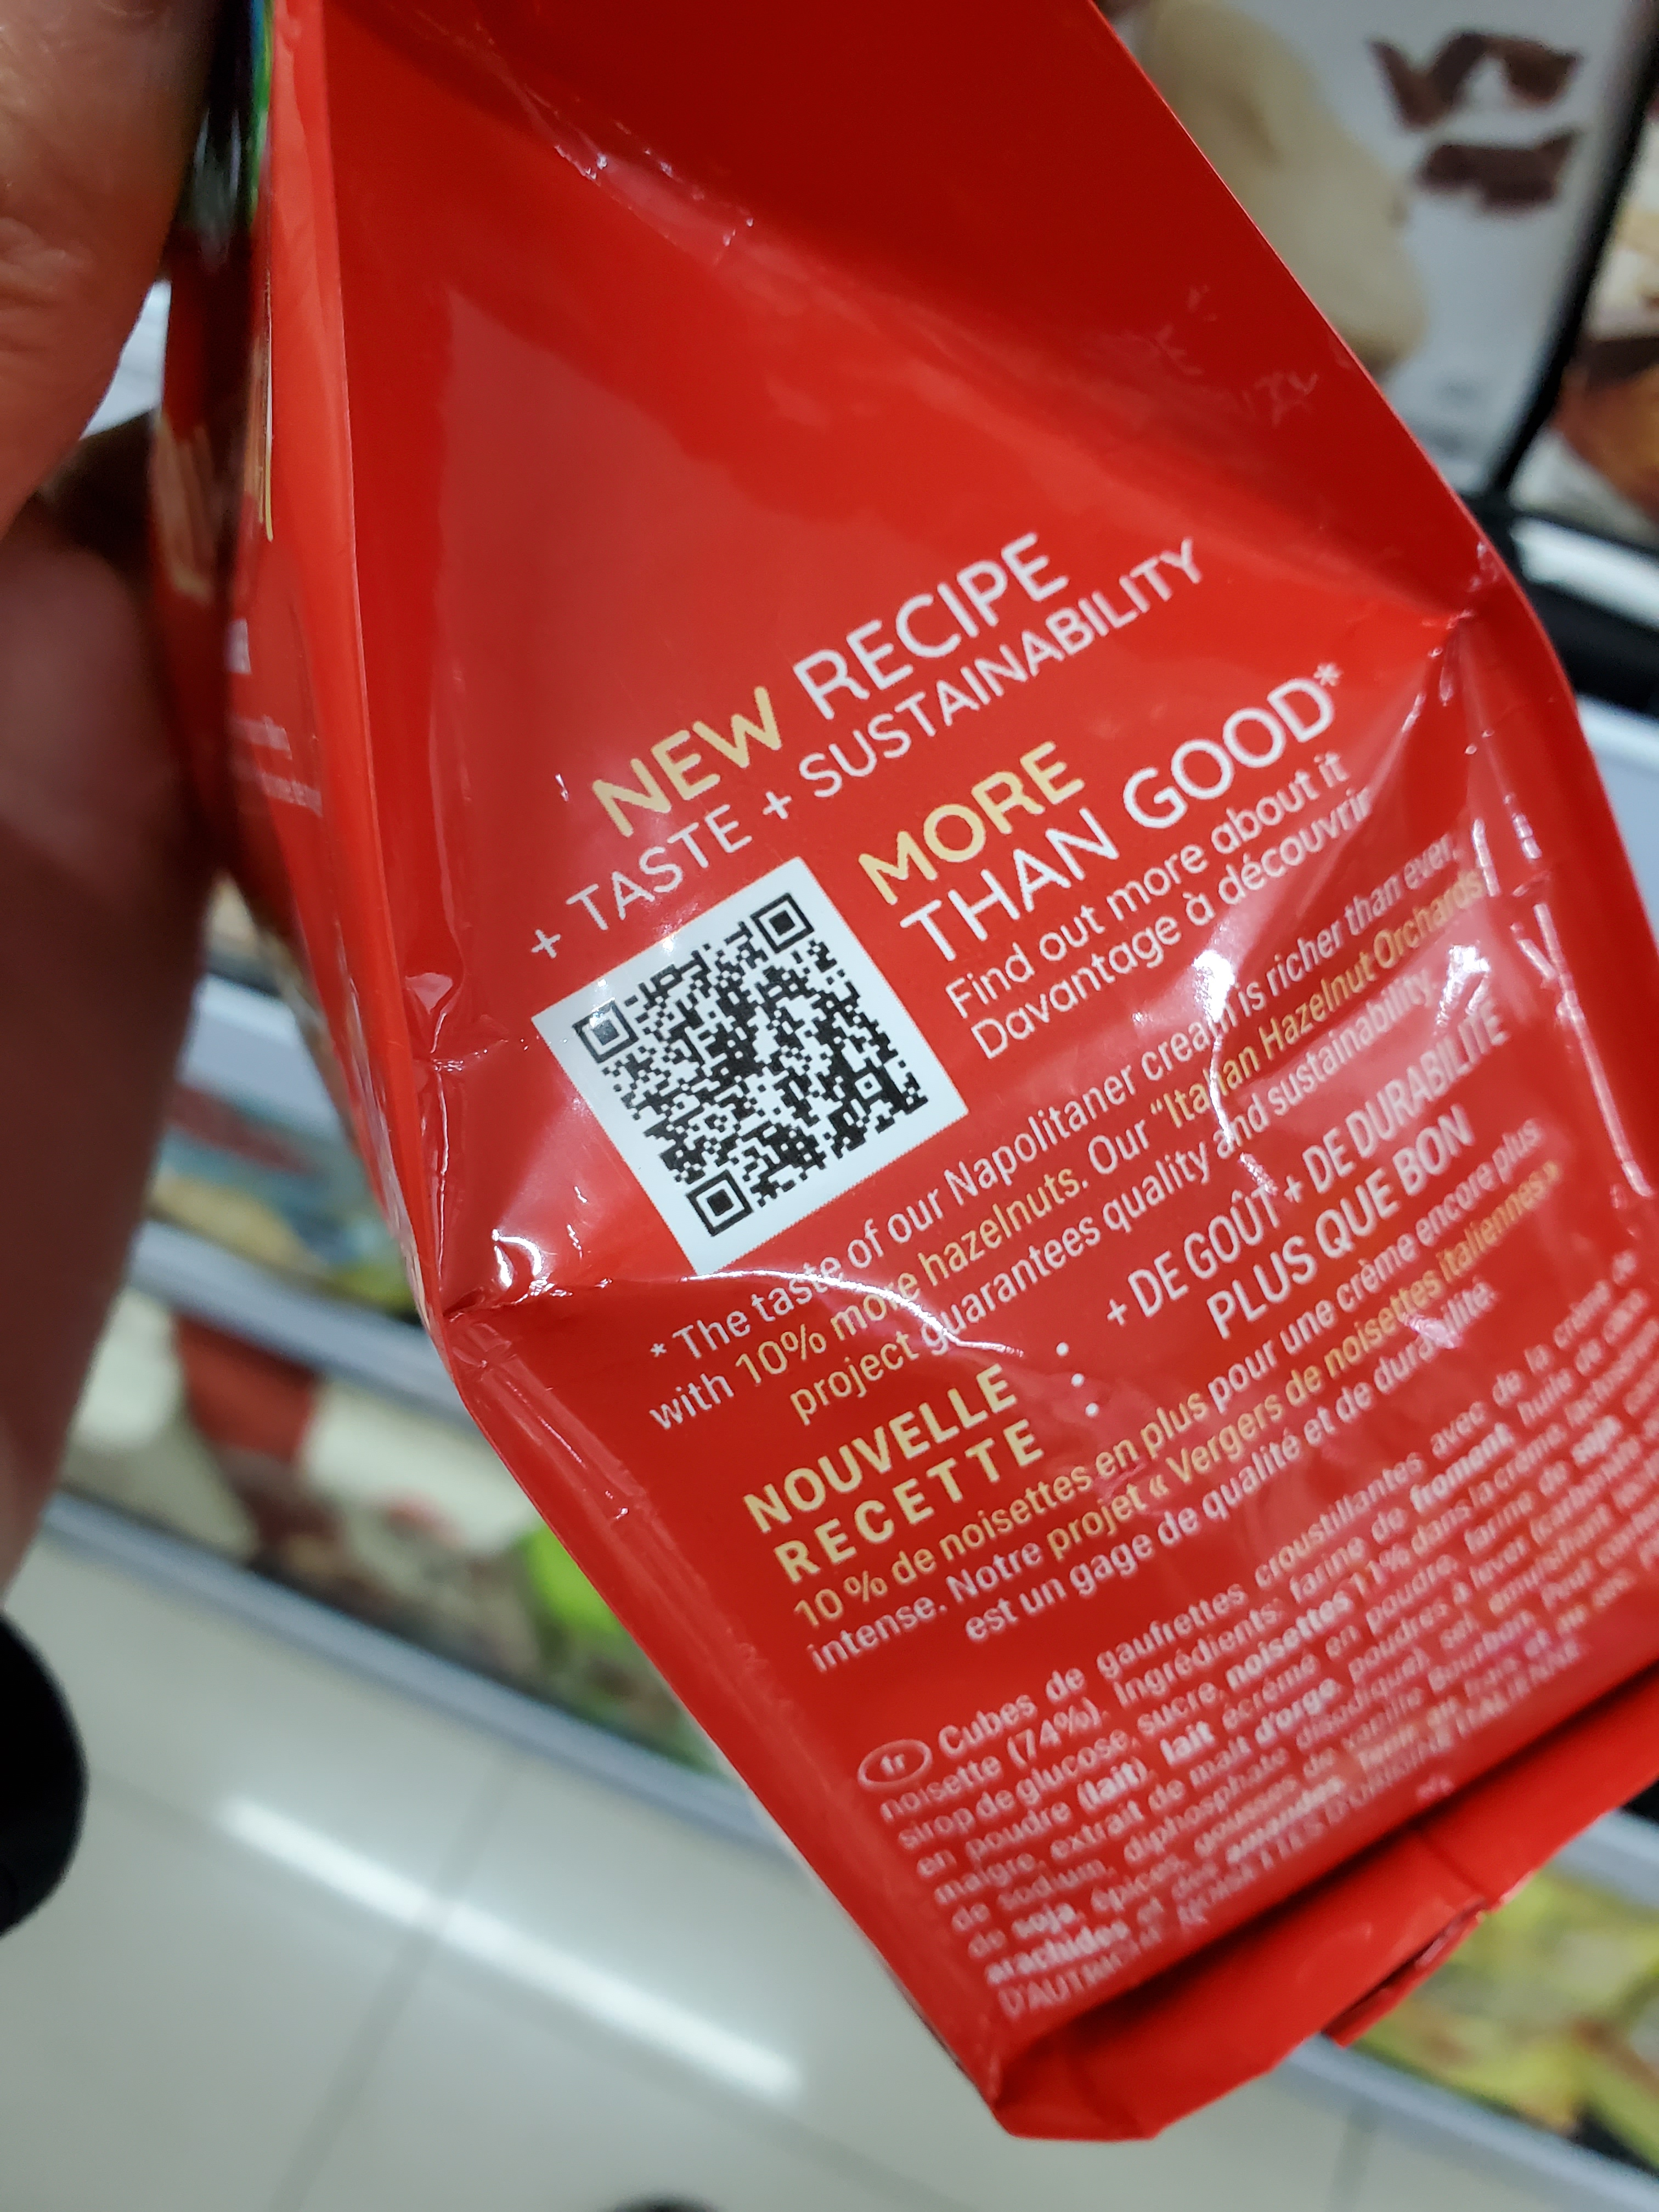qr code: (525, 867, 950, 1261)
